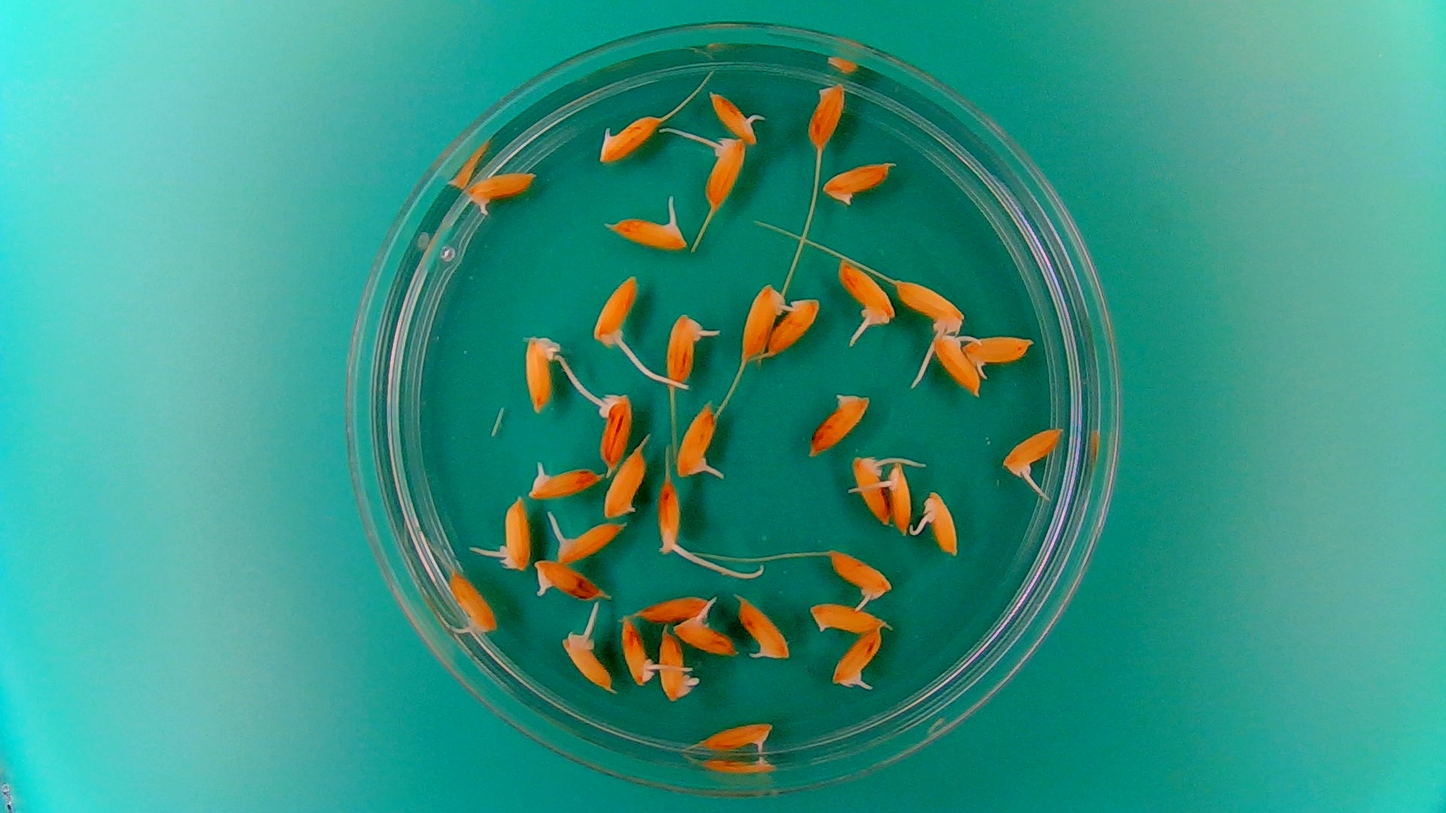no: (807, 388, 871, 455), (524, 333, 569, 415), (767, 294, 818, 361), (602, 448, 649, 520), (657, 626, 698, 703), (807, 598, 889, 636), (821, 163, 891, 206), (806, 80, 847, 148), (635, 593, 715, 624)
yes: (837, 255, 897, 327), (738, 285, 792, 361), (825, 547, 894, 604), (675, 400, 723, 481), (893, 278, 966, 329), (663, 314, 708, 391), (1002, 423, 1066, 477), (446, 568, 497, 635), (592, 276, 642, 343), (736, 598, 789, 661), (548, 521, 625, 564), (532, 559, 608, 602), (832, 628, 884, 690), (929, 335, 982, 395), (703, 136, 748, 206), (601, 111, 661, 163), (561, 633, 614, 691), (961, 333, 1036, 373), (655, 477, 691, 560), (467, 167, 538, 209), (618, 614, 658, 688), (851, 452, 891, 525), (675, 608, 737, 655), (698, 719, 776, 755), (595, 394, 633, 467), (708, 89, 760, 142), (919, 494, 960, 558), (881, 458, 914, 537), (528, 467, 603, 501), (612, 216, 686, 250), (498, 501, 532, 571)
